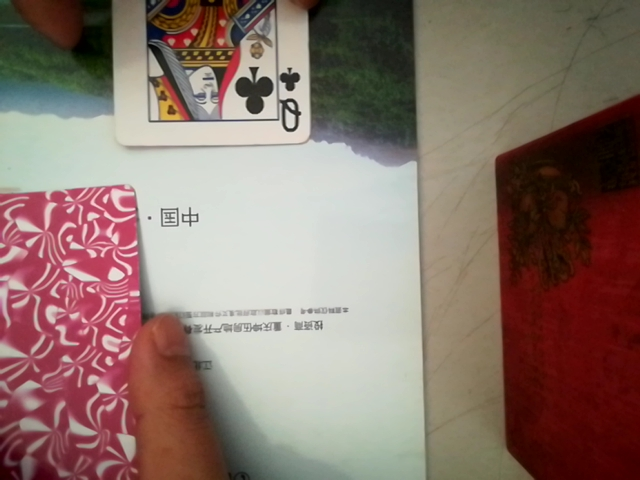mh q: (0, 0, 326, 143)
